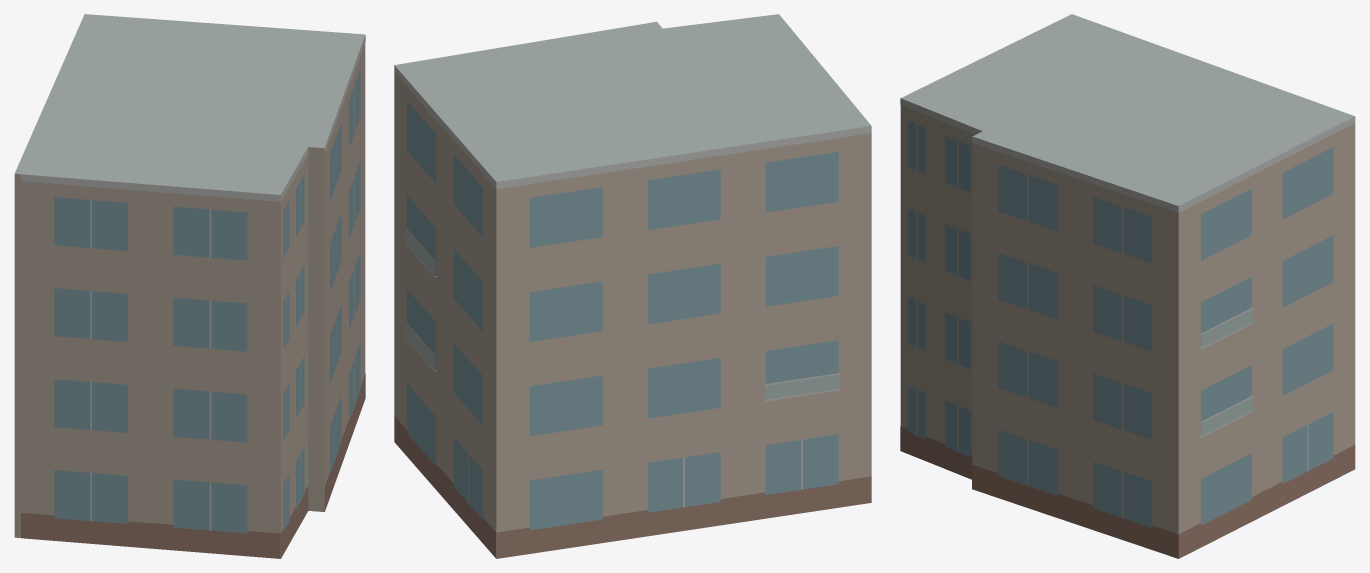
File: survey-upis-32689874.glb
The picture shows the model from 3 angles, left to right: view 1: azimuth 30°, elevation 25°; view 2: azimuth 150°, elevation 25°; view 3: azimuth 270°, elevation 25°; orthographic projection. The views are drawn at different scales.
Visible parts, largest first — view 1: survey-upis-32689874.tmp; view 2: survey-upis-32689874.tmp; view 3: survey-upis-32689874.tmp.
Boxes of the visible parts, box(x1,y1,x2,y2) form: survey-upis-32689874.tmp: box(14, 14, 365, 558); survey-upis-32689874.tmp: box(394, 14, 871, 558); survey-upis-32689874.tmp: box(900, 14, 1355, 558).
Size of the model in its own units: 15.11 by 12.93 by 15.11.
